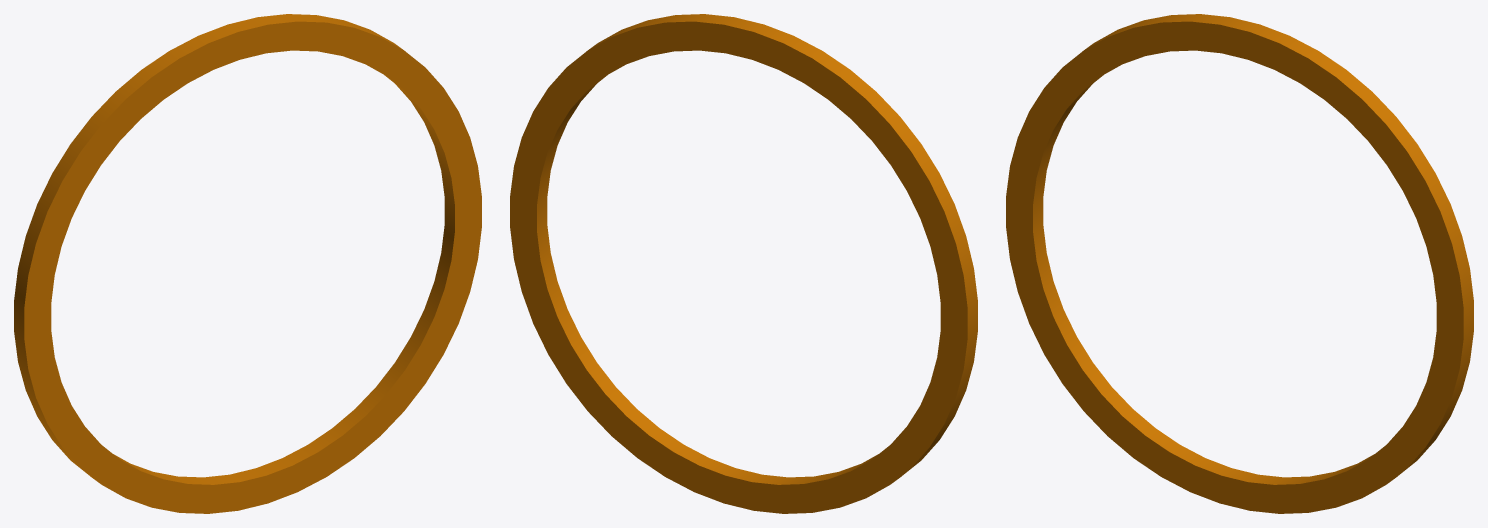
Rendered from Ring_Four.fbx.
3 views of the same model, side by side, from view 1: azimuth 30°, elevation 25°; view 2: azimuth 150°, elevation 25°; view 3: azimuth 330°, elevation 25° (orthographic).
Visible parts, largest first — view 1: Ring_Four; view 2: Ring_Four; view 3: Ring_Four.
Boxes of the visible parts, x1,y1,x2,y2 form: Ring_Four: [14, 14, 481, 513]; Ring_Four: [510, 14, 977, 513]; Ring_Four: [1006, 14, 1473, 513].
Bounding box in the file's own units: 77.25 × 3 × 77.25.
